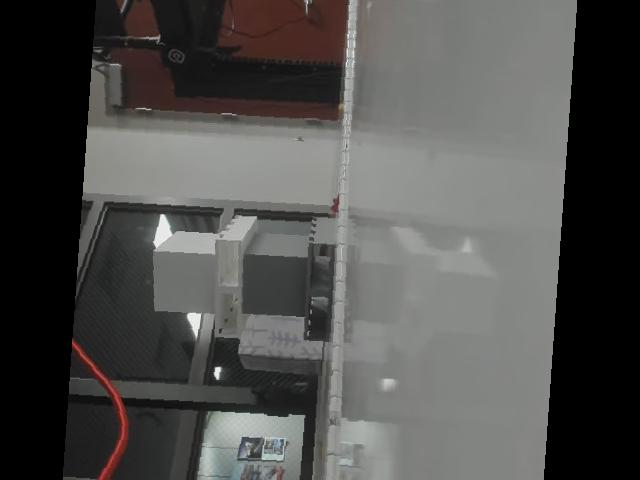grey pallet: (239, 187, 359, 346)
white pallet: (140, 200, 265, 342)
